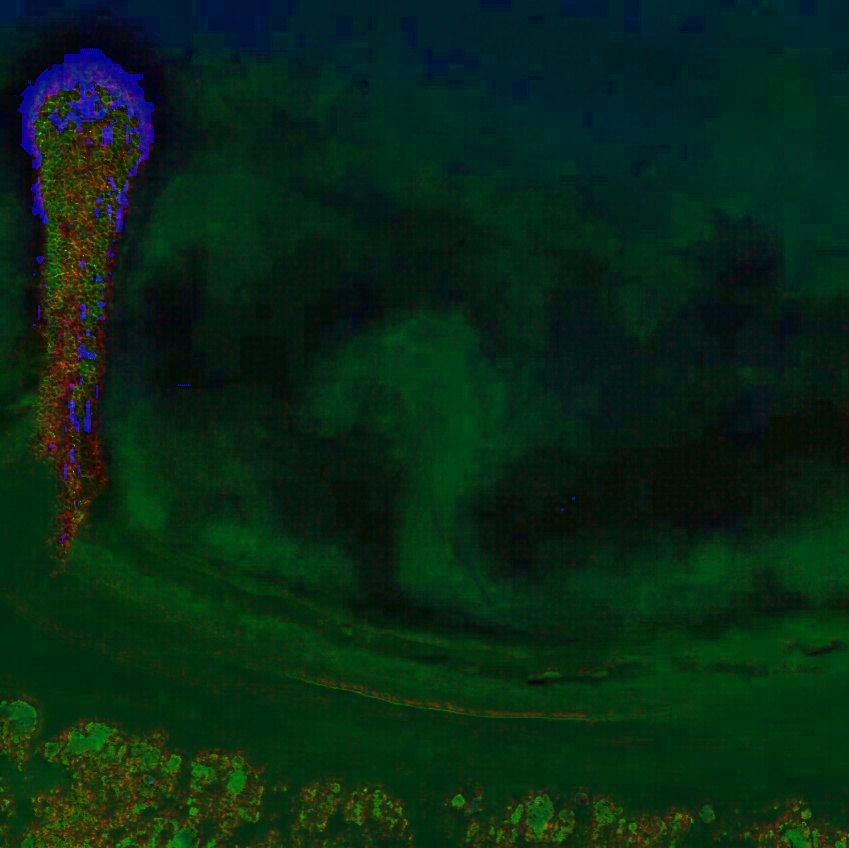rip_current: (289, 241, 544, 632)
